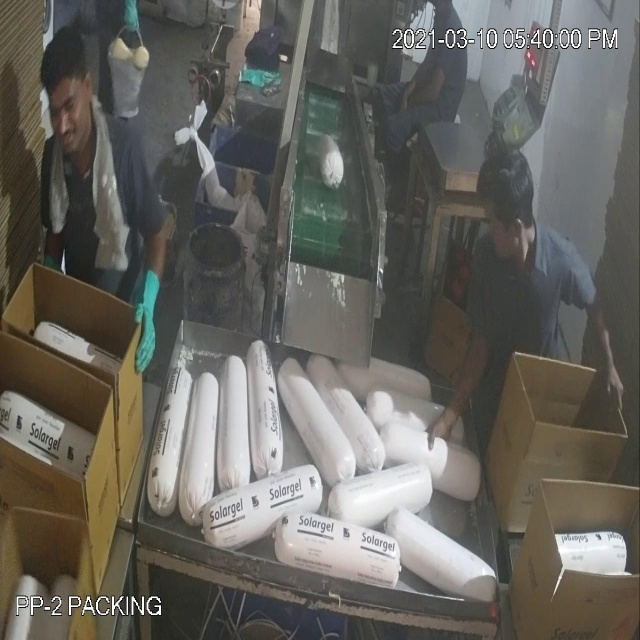Guantes: (131, 256, 165, 380)
Sin_guantes: (414, 322, 492, 445), (576, 282, 628, 420), (399, 57, 450, 115)
